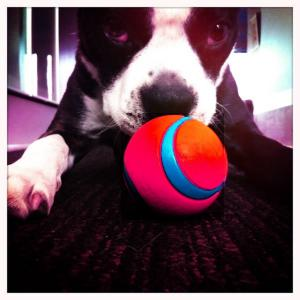TennisBall: (123, 114, 227, 222)
